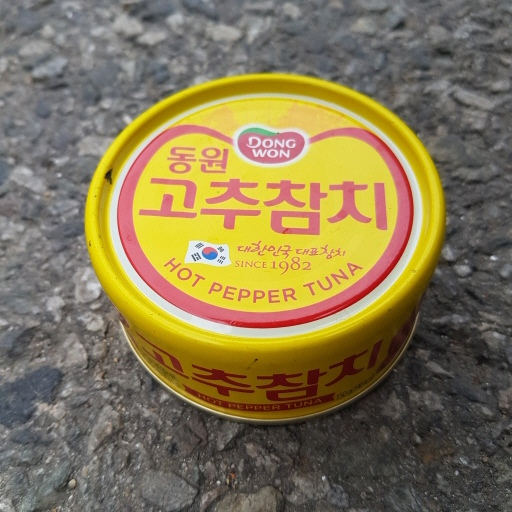Metal_1: (84, 66, 449, 423)
